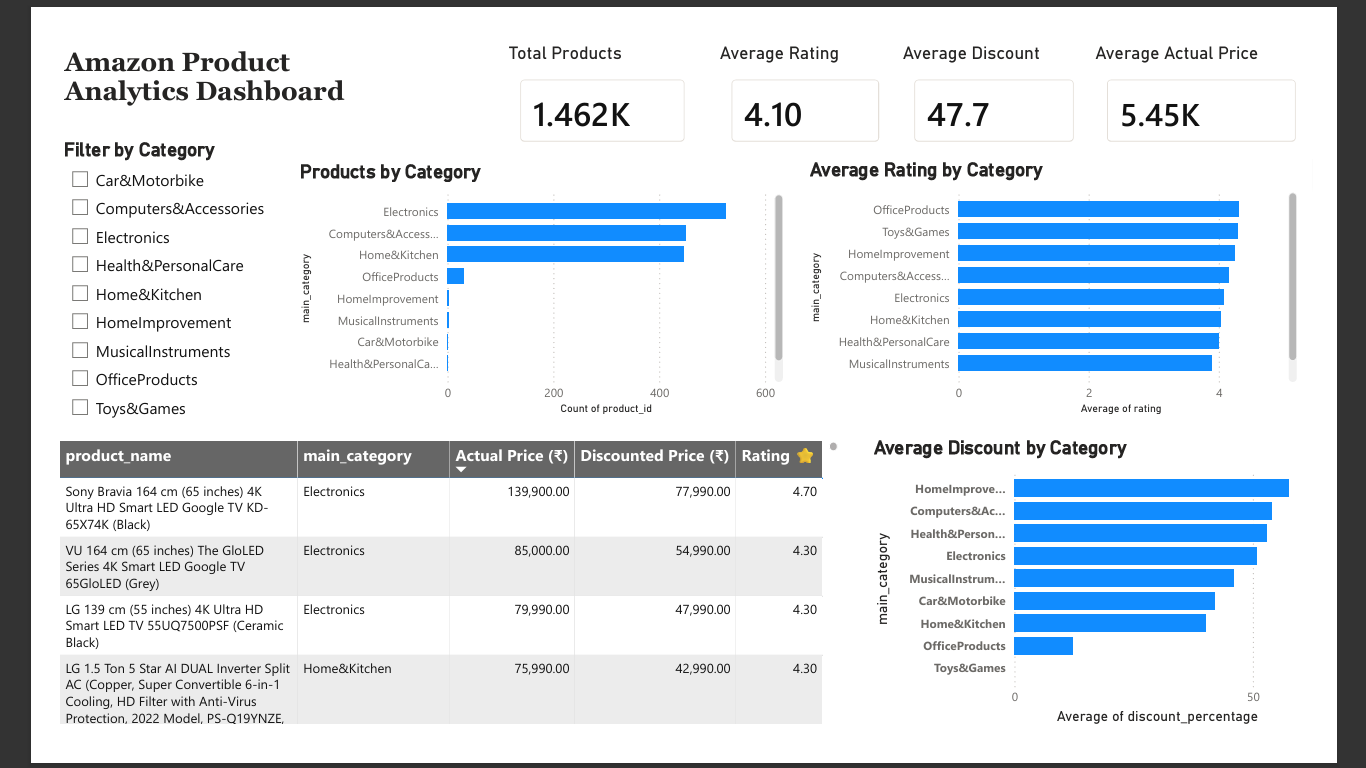

The dashboard page shown, as its layout file describes it:
{"tool":"powerbi","page":{"name":"Page 1","canvas":[1280,720],"ordinal":0},"visuals":[{"type":"cardVisual","title":"Total Products","fields":{"Data":["CountNonNull(amazon_cleaned.product_id)"]},"box":[456.9,12.1,201.2,118],"z":0},{"type":"cardVisual","title":"Average Rating","fields":{"Data":["Avg(amazon_cleaned.rating)"]},"box":[671.7,12.1,184.6,118],"z":1000},{"type":"cardVisual","title":"Average Discount ","fields":{"Data":["Avg(amazon_cleaned.discount_percentage)"]},"box":[857.8,12.1,196.7,118],"z":2000},{"type":"cardVisual","title":"Average Actual Price","fields":{"Data":["Avg(amazon_cleaned.actual_price)"]},"box":[1054.5,12.1,225.4,118],"z":3000},{"type":"clusteredBarChart","title":"Products by Category","fields":{"Y":["CountNonNull(amazon_cleaned.product_id)"],"Category":["amazon_cleaned.main_category"]},"box":[245.1,131.6,500.8,263.2],"z":4000},{"type":"clusteredBarChart","title":"Average Rating by Category","fields":{"Category":["amazon_cleaned.main_category"],"Y":["Avg(amazon_cleaned.rating)"]},"box":[764,130.1,505.3,264.8],"z":5000},{"type":"clusteredBarChart","title":"Average Discount by Category","fields":{"Category":["amazon_cleaned.main_category"],"Y":["Avg(amazon_cleaned.discount_percentage)"]},"box":[829.1,413,450.8,296.5],"z":6000},{"type":"tableEx","fields":{"Values":["amazon_cleaned.product_name","amazon_cleaned.main_category","amazon_cleaned.actual_price","amazon_cleaned.discounted_price","amazon_cleaned.rating"]},"box":[0,413,801.8,296.5],"z":7000},{"type":"slicer","title":"Filter by Category ","fields":{"Values":["amazon_cleaned.main_category"]},"box":[4.5,110.4,223.9,305.6],"z":8000},{"type":"textbox","box":[4.5,12.1,340.4,89.3],"z":9000}]}

Visuals, with their boxes in screenshot pixels (x1, y1, x2, y2), scaled from the page's 1280x720 canvas onto the 1366x768 screenshot:
"Total Products" cardVisual: bbox=[488, 13, 702, 139]
"Average Rating" cardVisual: bbox=[717, 13, 914, 139]
"Average Discount " cardVisual: bbox=[915, 13, 1125, 139]
"Average Actual Price" cardVisual: bbox=[1125, 13, 1365, 139]
"Products by Category" clusteredBarChart: bbox=[262, 140, 796, 421]
"Average Rating by Category" clusteredBarChart: bbox=[815, 139, 1355, 421]
"Average Discount by Category" clusteredBarChart: bbox=[885, 441, 1365, 757]
tableEx - amazon_cleaned.product_name x amazon_cleaned.main_category: bbox=[0, 441, 856, 757]
"Filter by Category " slicer: bbox=[5, 118, 244, 444]
textbox: bbox=[5, 13, 368, 108]
